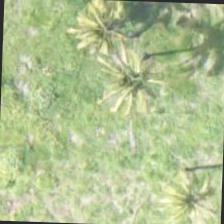Kelapa_Sawit: (88, 30, 181, 122), (53, 0, 146, 74), (144, 150, 223, 223)
